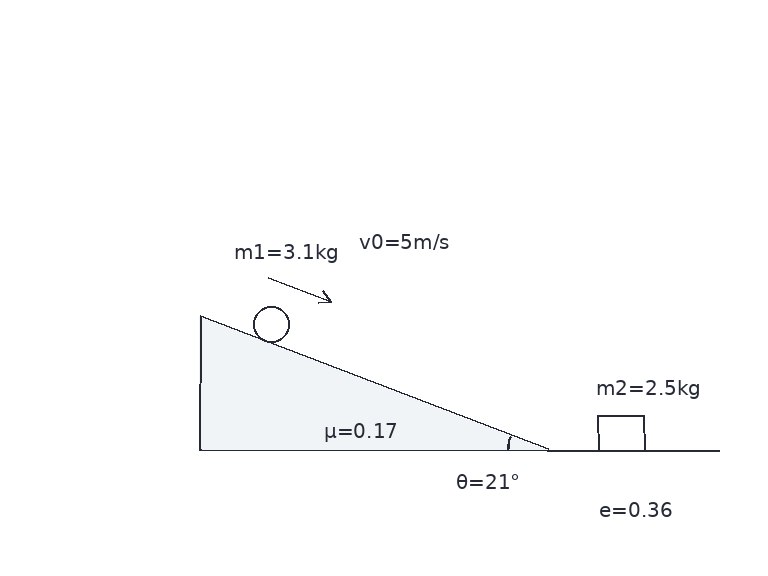ball: (251, 304, 291, 344)
block: (596, 414, 646, 452)
ramp: (198, 314, 550, 452)
